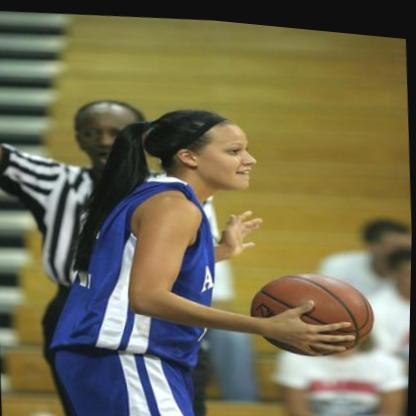basketball: (248, 260, 377, 360)
